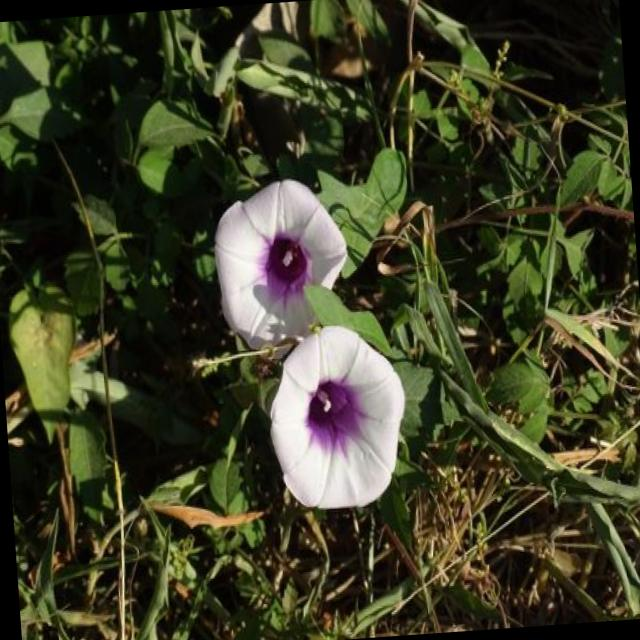ipomoea: (201, 163, 419, 524), (259, 316, 415, 518), (205, 170, 357, 357)
